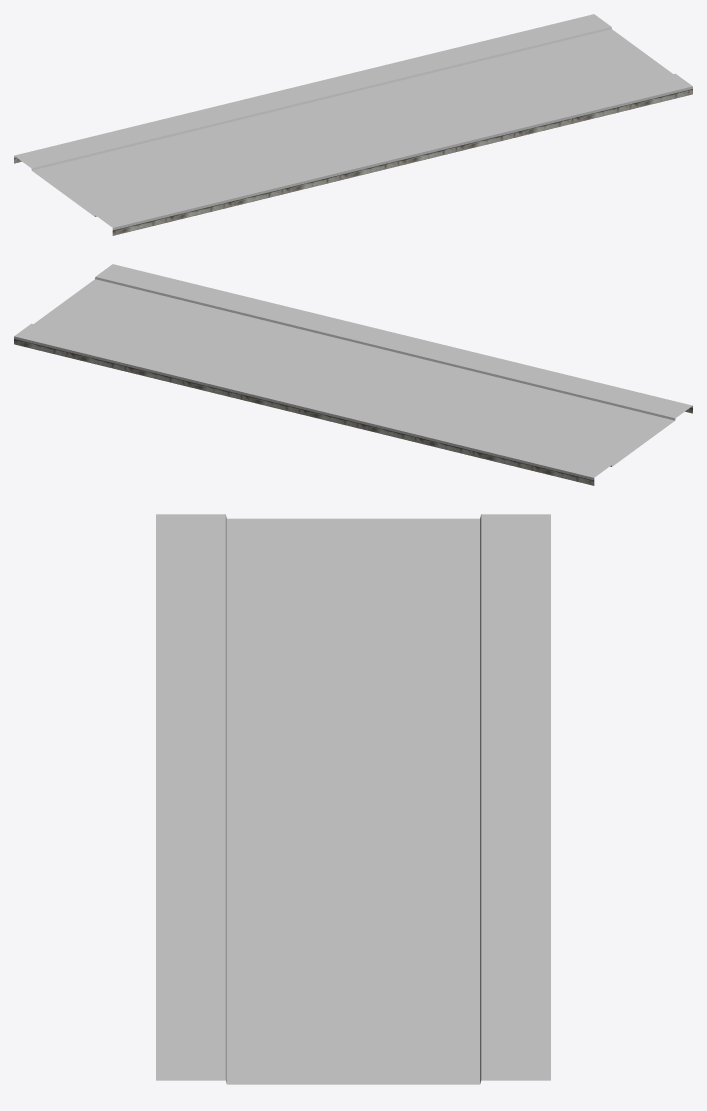
Rendered from Road_2_line.FBX.
3 views of the same model, one above another, from view 1: azimuth 30°, elevation 25°; view 2: azimuth 150°, elevation 25°; view 3: azimuth 270°, elevation 25° (orthographic). The views are drawn at different scales.
Visible parts, largest first — view 1: Road_2_line; view 2: Road_2_line; view 3: Road_2_line.
Part boxes in pixels (x1=…): Road_2_line: x1=14, y1=14, x2=692, y2=235; Road_2_line: x1=14, y1=264, x2=692, y2=485; Road_2_line: x1=156, y1=514, x2=550, y2=1084.
Size of the model in its own units: 3471 by 45.63 by 1024.
